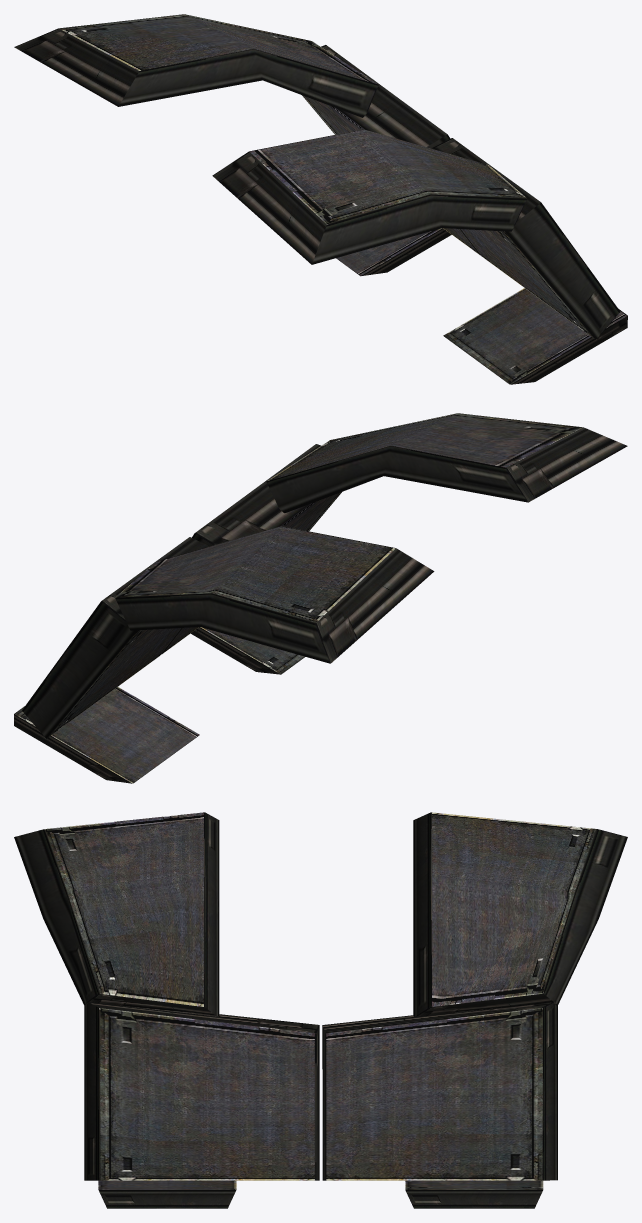
File: medium_unit_iron.obj
3 renders of one model, top to bottom at view 1: azimuth 30°, elevation 25°; view 2: azimuth 150°, elevation 25°; view 3: azimuth 270°, elevation 25°, orthographic. The views are drawn at different scales.
Parts seen in each view (by area): view 1: polySurface24; view 2: polySurface24; view 3: polySurface24.
Part boxes in pixels (left/top/right/bottom): polySurface24: left=14, top=14, right=627, bottom=384; polySurface24: left=14, top=413, right=627, bottom=783; polySurface24: left=14, top=812, right=627, bottom=1208.
Size of the model in its own units: 18.01 by 12.08 by 25.64.
1 material, 1 textured.
